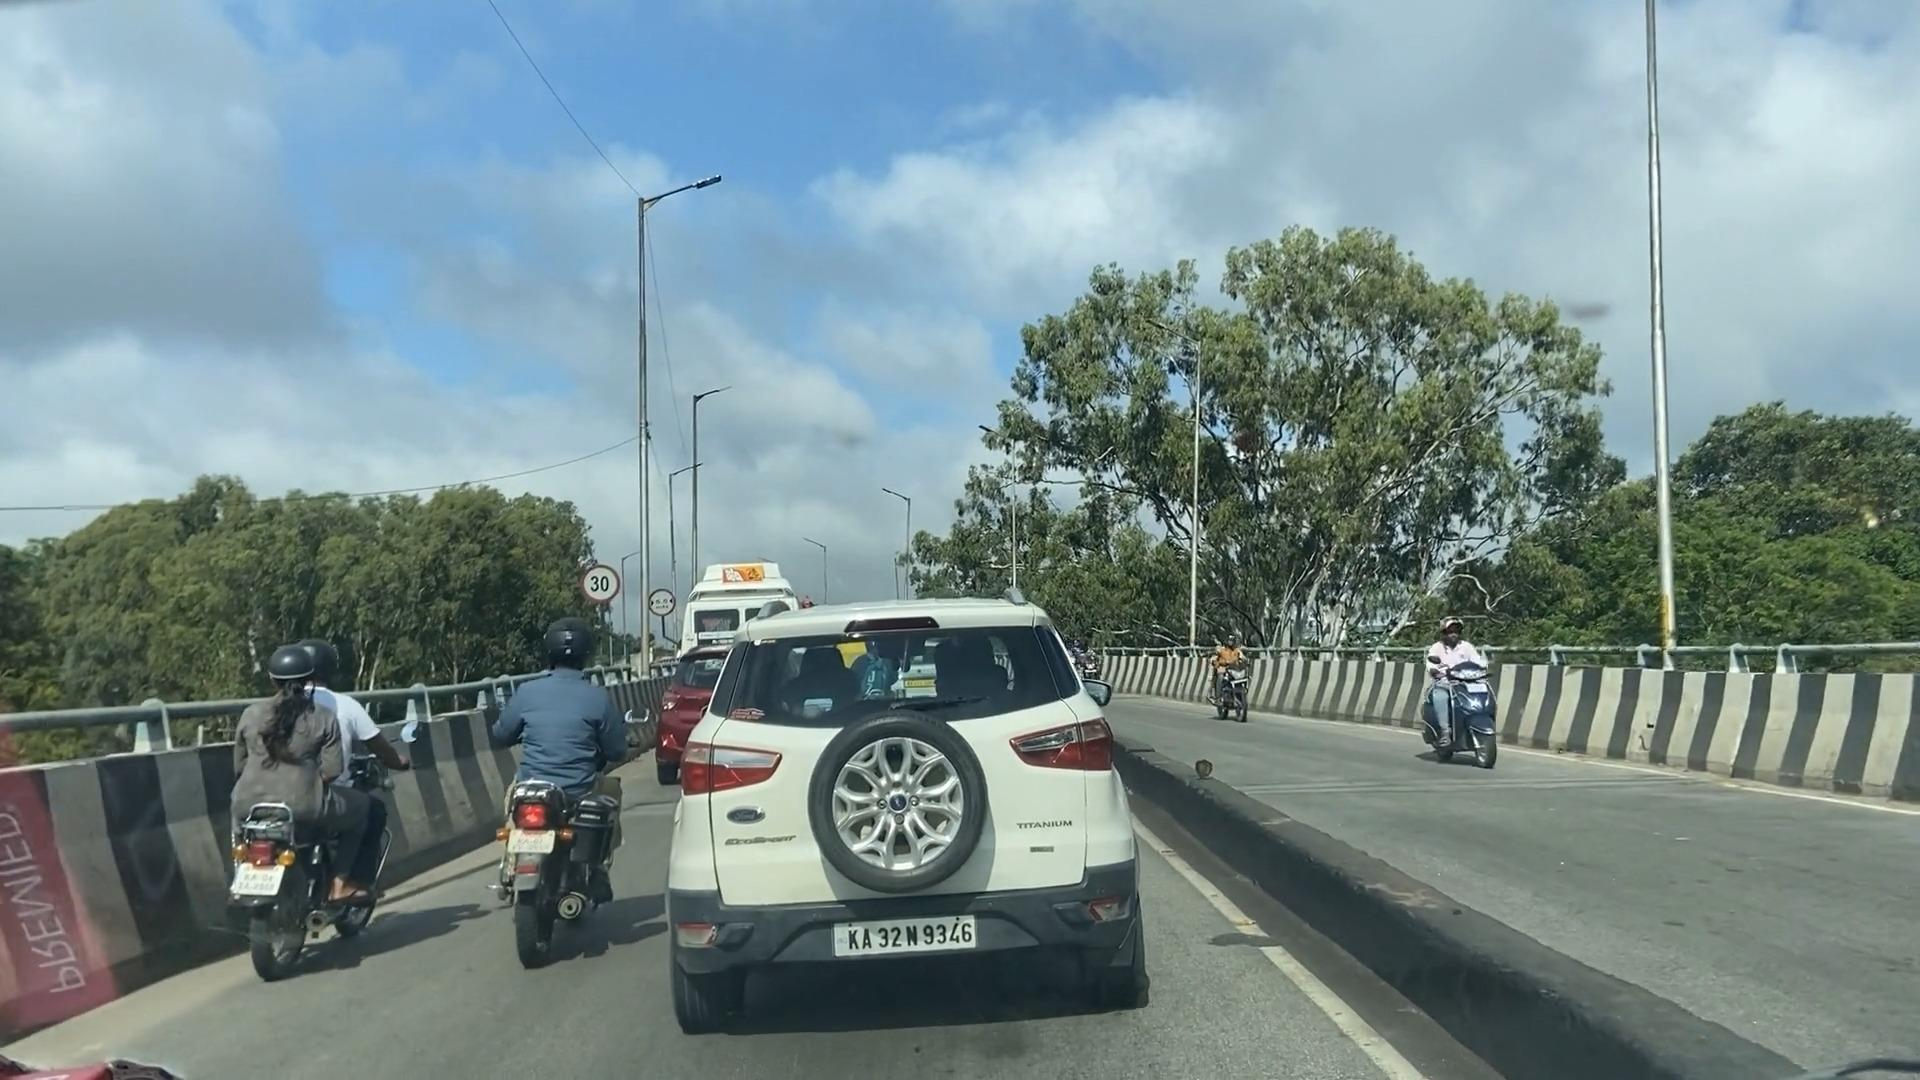LMV: (669, 591, 1150, 1034), (196, 616, 369, 990), (491, 609, 628, 982)
